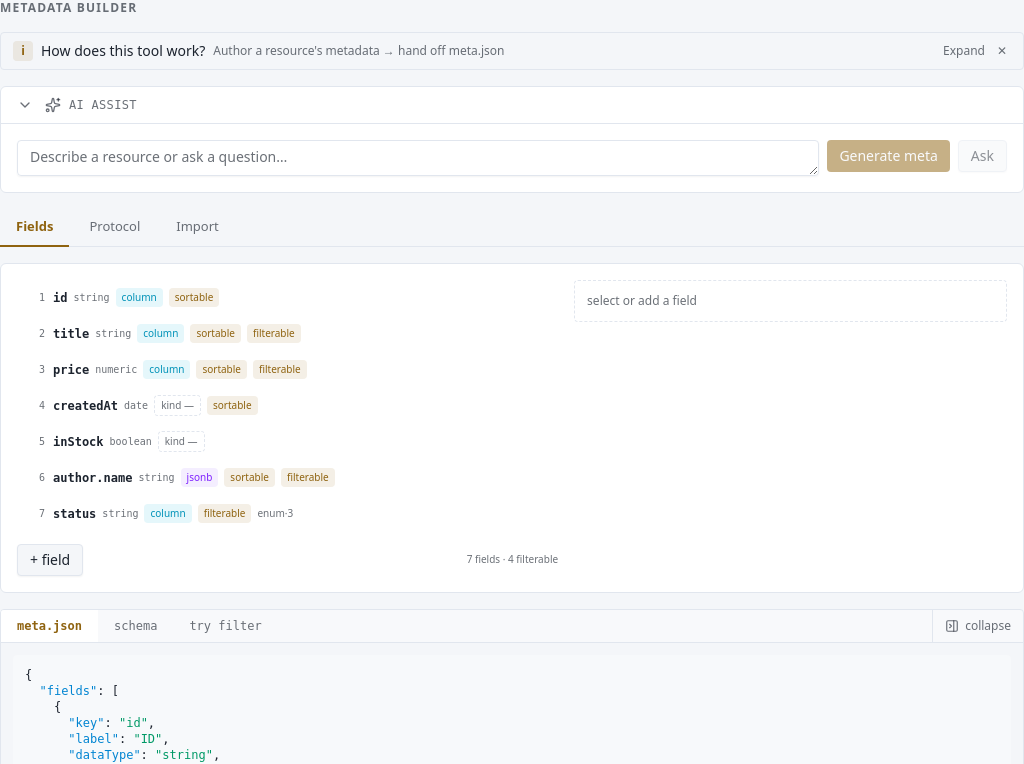
studio layout › collapse hides the code panel and persists; expand restores it
The width and height of the screenshot is (1024, 764).
Click the button with aria-label "collapse code panel": (978, 626) [932,610,1023,642]
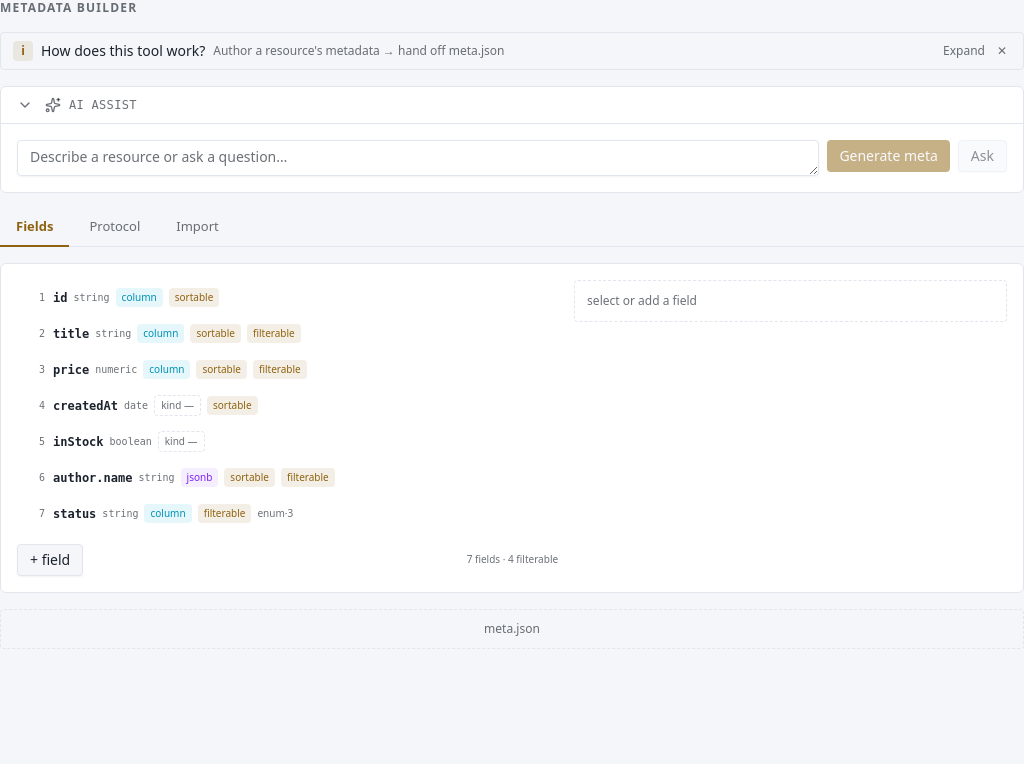
Click the button with aria-label "expand code panel": (512, 628) [0,608,1023,648]
(page scrolled)
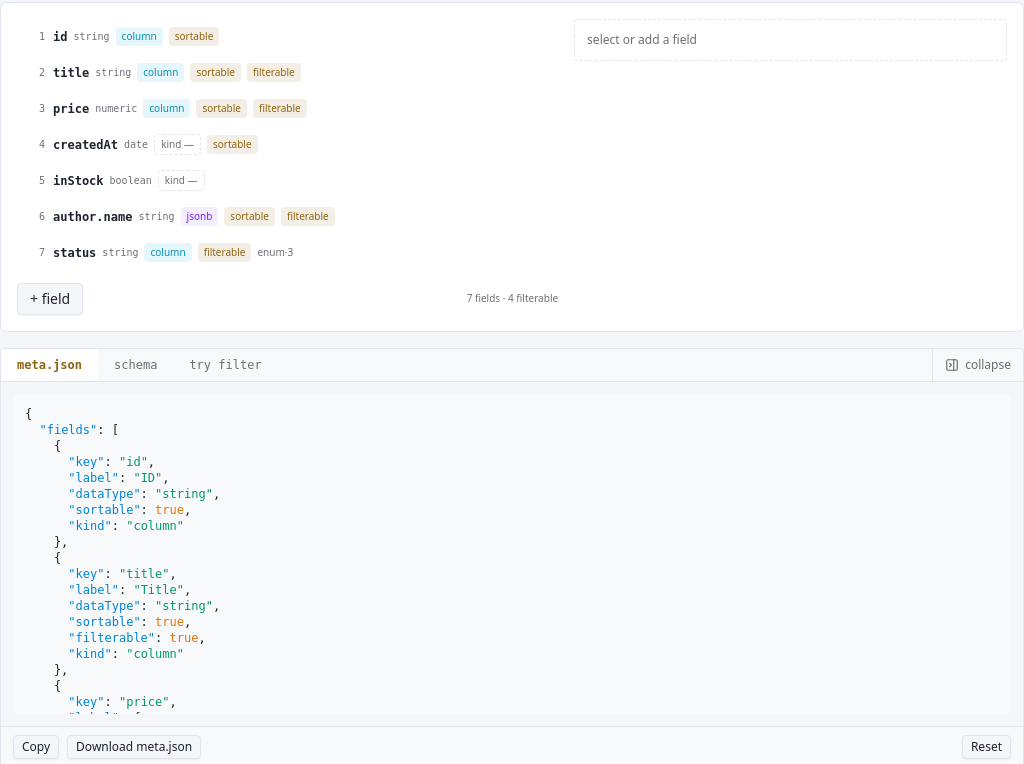
Expected: the element with test id "meta-json" is shown, [13,394,1011,714]
